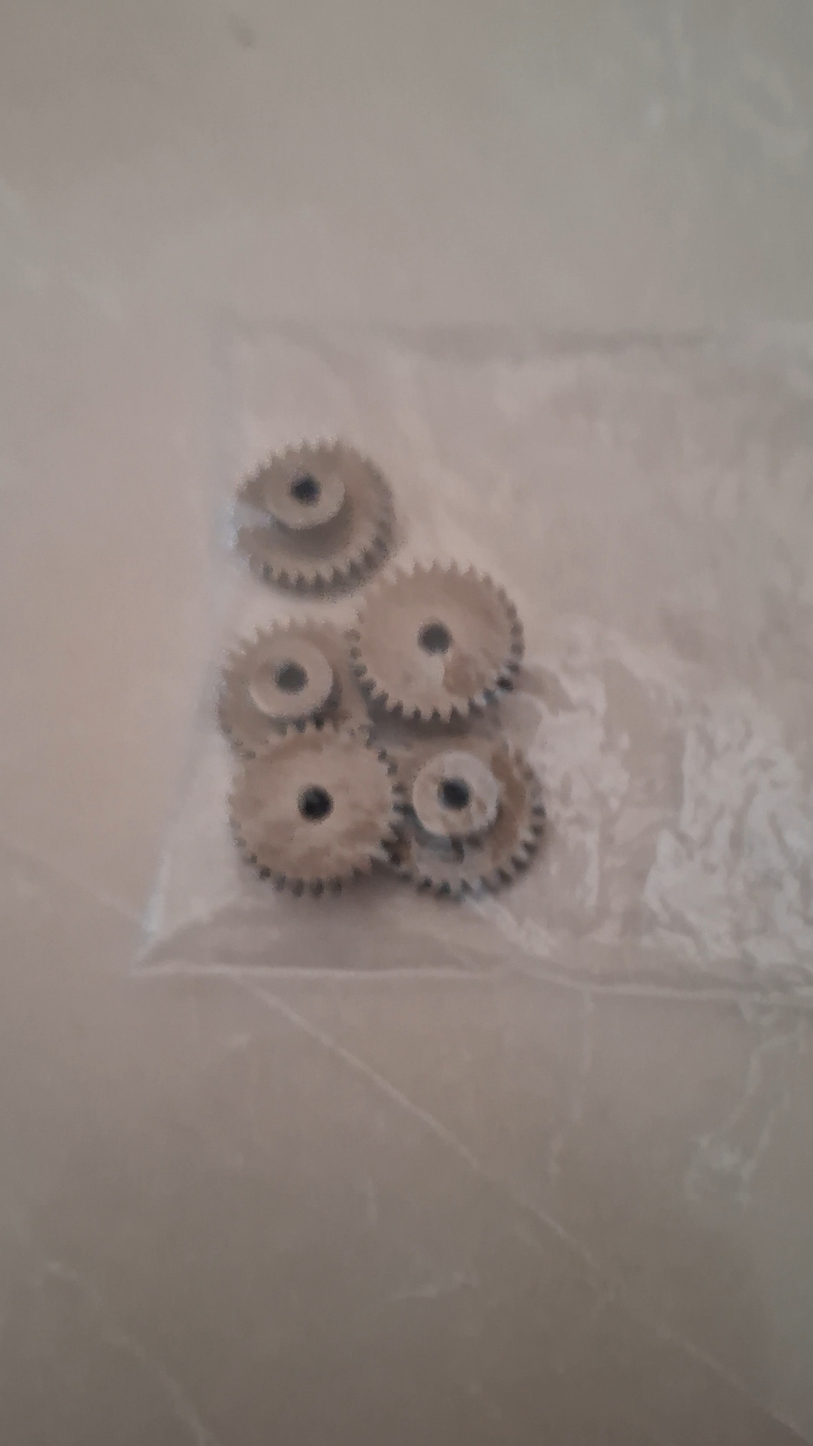spur gear: (230, 724, 400, 894), (349, 564, 523, 722), (389, 737, 544, 897), (237, 442, 391, 593), (218, 623, 368, 756)
